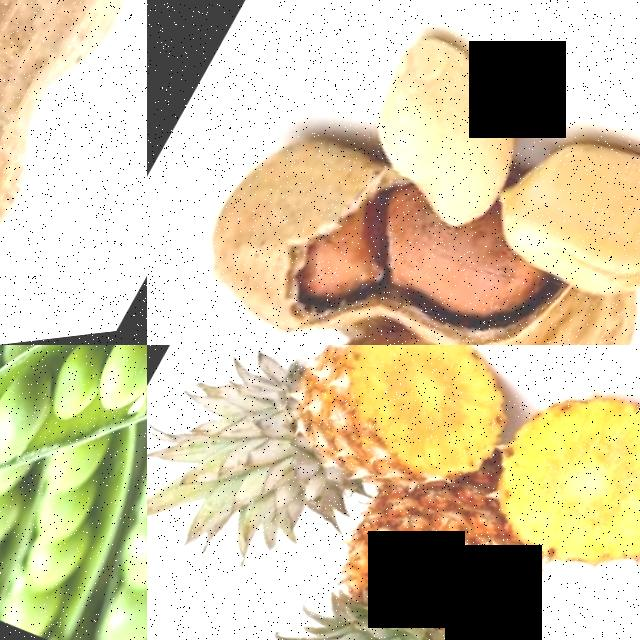peanuts: (156, 88, 430, 345), (351, 14, 574, 259), (0, 0, 147, 345), (479, 110, 640, 345)
peas: (0, 345, 147, 525), (63, 390, 147, 640)
pineapple: (219, 345, 547, 549), (284, 467, 570, 640)
